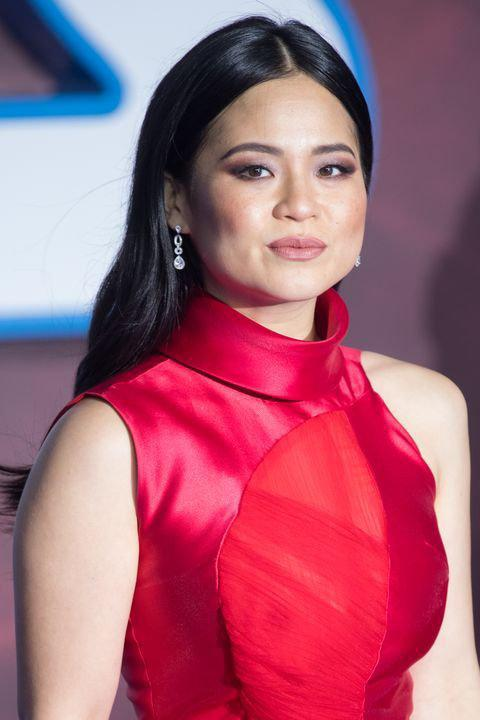Sober: (212, 95, 364, 295)
